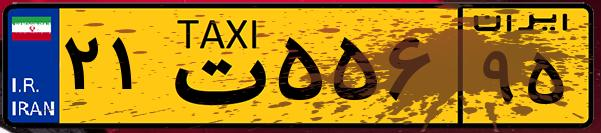1: (110, 28, 158, 98)
2: (57, 26, 110, 100)
5: (270, 28, 330, 110), (330, 28, 385, 110), (525, 38, 570, 115)
6: (385, 28, 445, 110)
9: (475, 38, 525, 113)
ت: (158, 12, 270, 120)
